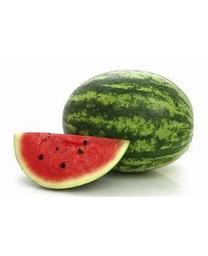watermelon: (59, 69, 193, 175), (10, 129, 131, 190)
